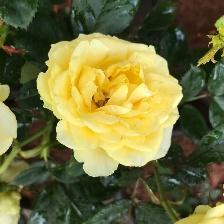rose: (37, 31, 186, 181)
